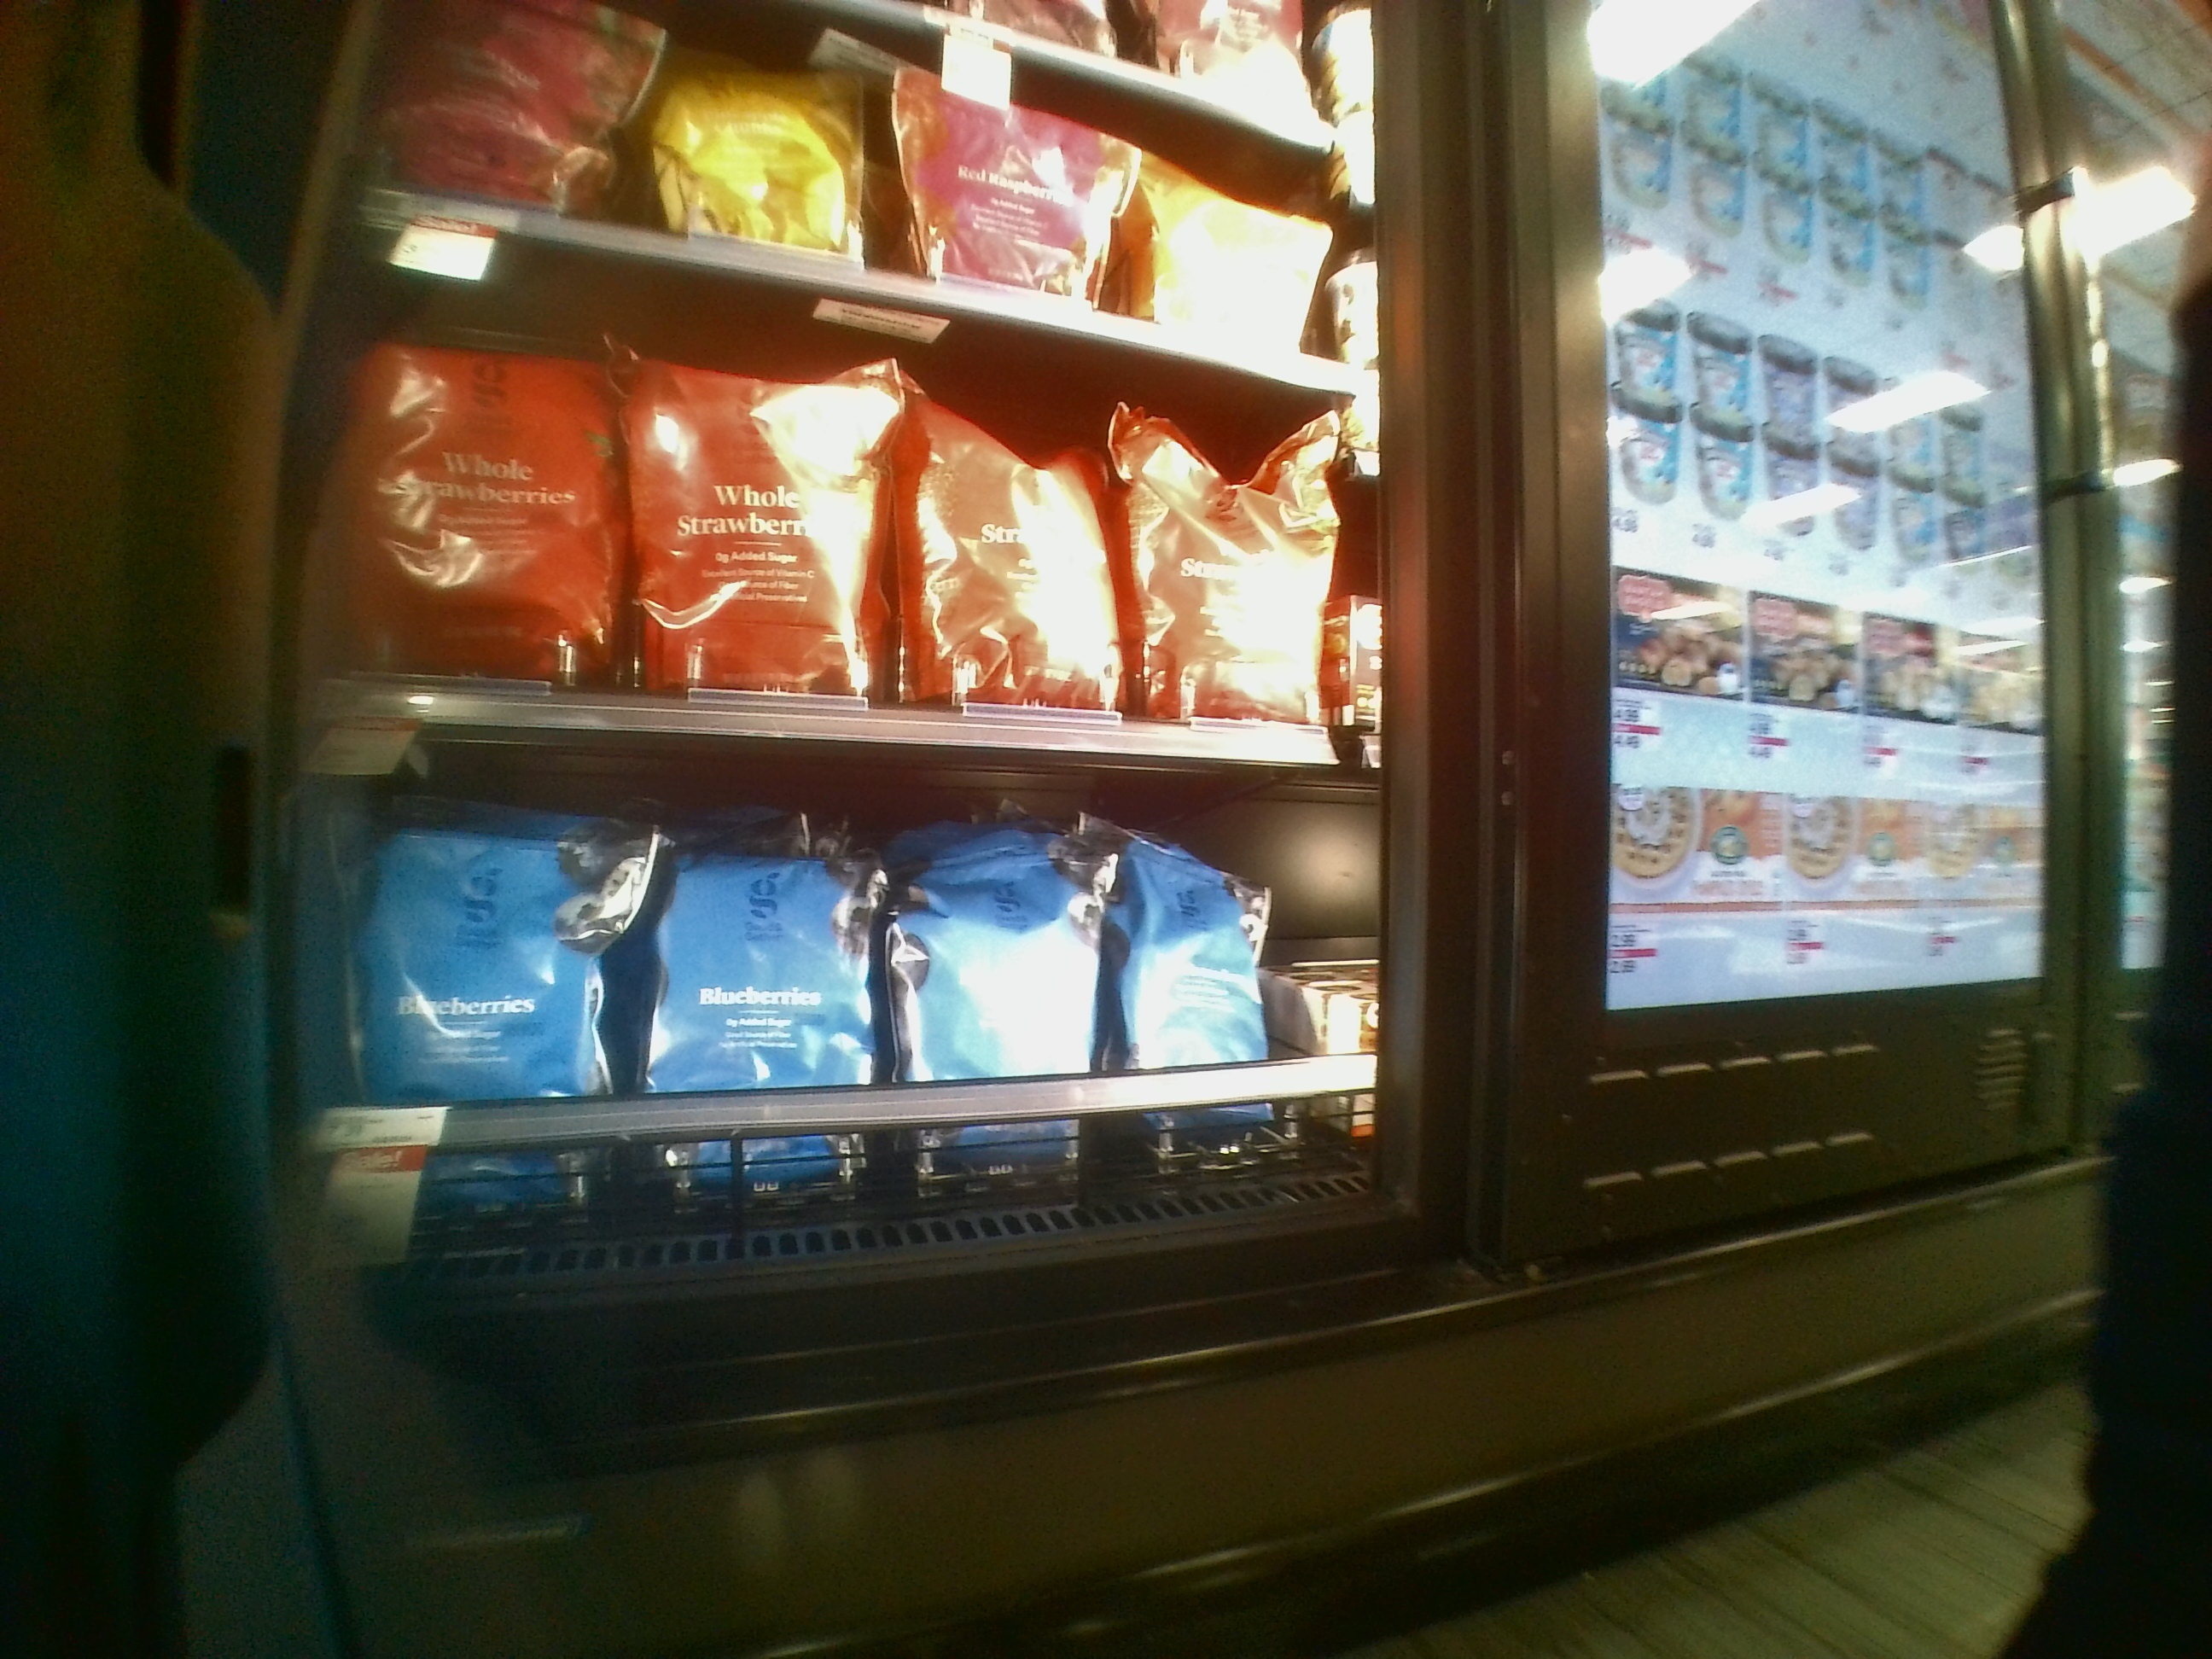shelf: (312, 758, 1381, 1208), (310, 333, 1376, 765)
